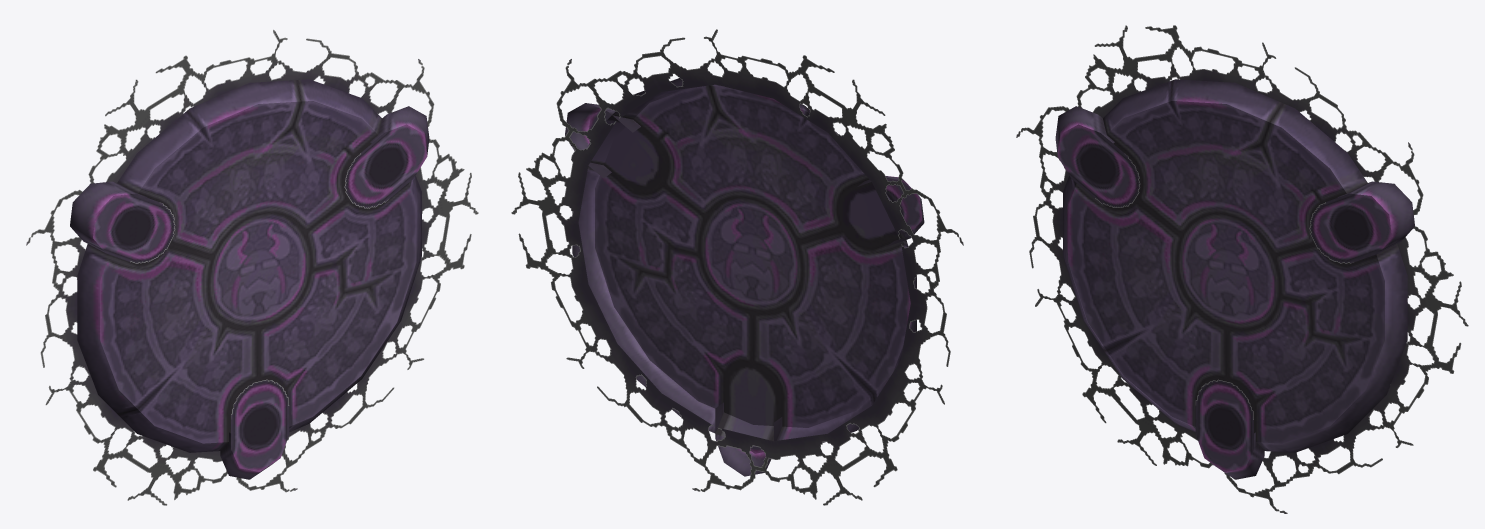
3 views of the same model, side by side, from view 1: azimuth 30°, elevation 25°; view 2: azimuth 150°, elevation 25°; view 3: azimuth 330°, elevation 25° (orthographic).
Visible parts, largest first — view 1: grim_gate.model-Mesh[0]; view 2: grim_gate.model-Mesh[0]; view 3: grim_gate.model-Mesh[0].
Boxes of the visible parts, left/top/right/bottom form: grim_gate.model-Mesh[0]: left=26, top=29, right=478, bottom=505; grim_gate.model-Mesh[0]: left=511, top=29, right=963, bottom=505; grim_gate.model-Mesh[0]: left=1016, top=25, right=1468, bottom=513.
Size of the model in its own units: 4 by 3.94 by 0.1861.
1 material, 1 textured.
